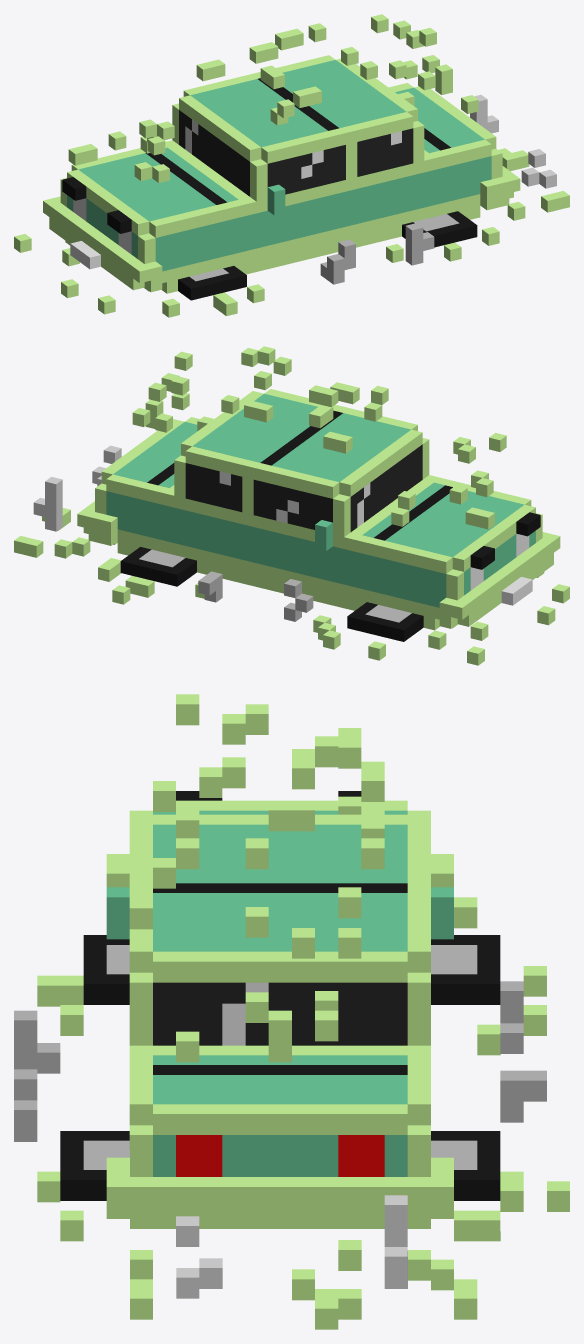
The model's file is car_20.glb.
3 views of the same model, one above another, from view 1: azimuth 30°, elevation 25°; view 2: azimuth 150°, elevation 25°; view 3: azimuth 270°, elevation 25° (orthographic). The views are drawn at different scales.
Parts seen in each view (by area): view 1: ObjObject.001; view 2: ObjObject.001; view 3: ObjObject.001.
Part boxes in pixels (bbox=[...]): ObjObject.001: bbox=[14, 14, 569, 317]; ObjObject.001: bbox=[14, 346, 569, 665]; ObjObject.001: bbox=[14, 694, 569, 1329].
Bounding box in the file's own units: 4.3 × 1.6 × 2.4.
Materials: 1 (1 with a texture image).
